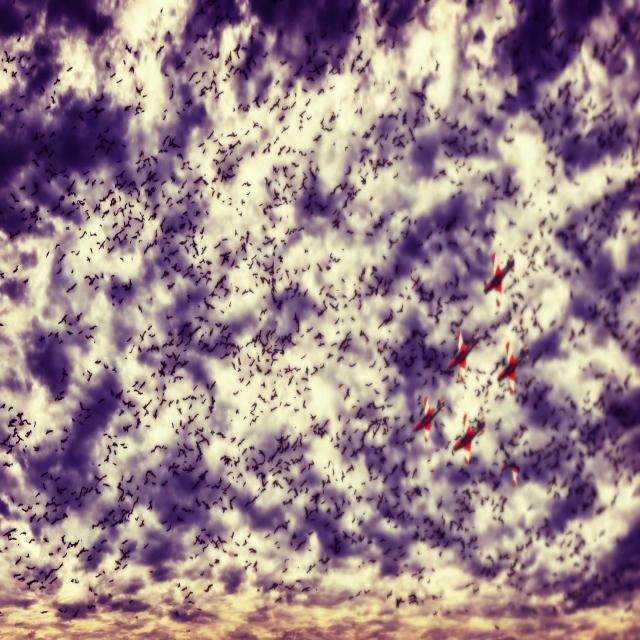airplane: (451, 413, 485, 465), (497, 340, 529, 394), (448, 329, 480, 382), (483, 252, 514, 306), (413, 395, 444, 442), (500, 453, 522, 488)
